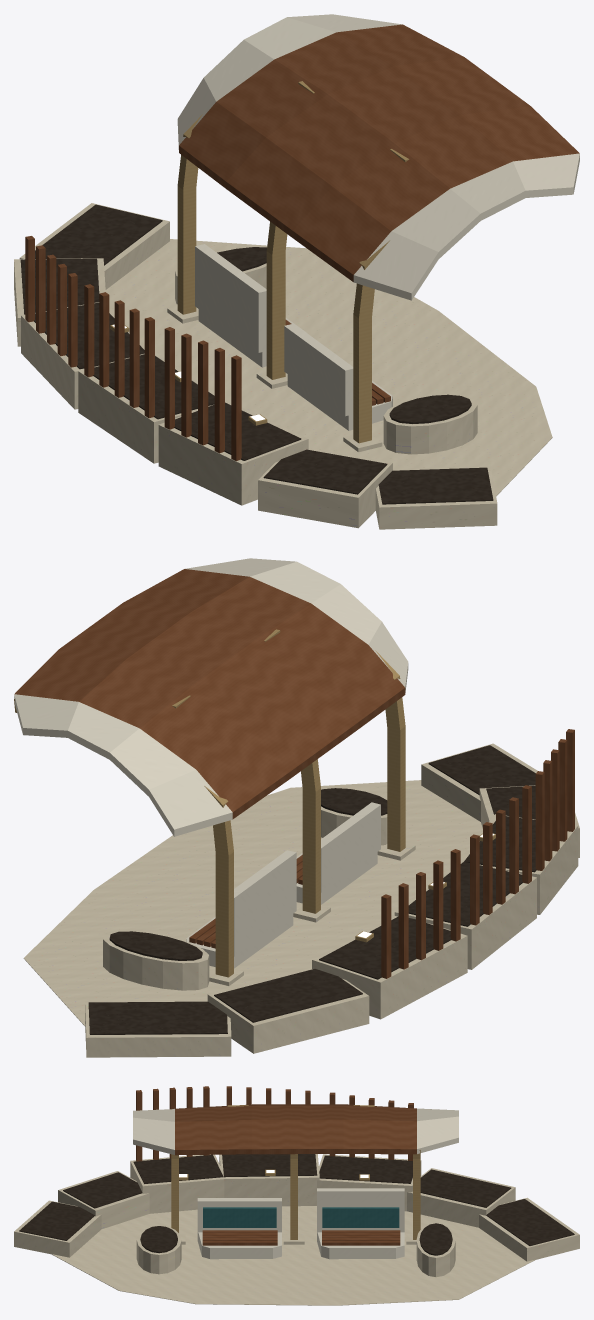
The model's file is AST-GAR-003.glb.
The picture shows the model from 3 angles, top to bottom: view 1: azimuth 30°, elevation 25°; view 2: azimuth 150°, elevation 25°; view 3: azimuth 270°, elevation 25°; orthographic projection. The views are drawn at different scales.
Visible parts, largest first — view 1: OVL_Runtime_warm_walnut, OVL_Runtime_warm_stone, OVL_Runtime_ivory_enamel, OVL_Runtime_botanical_soil, OVL_Runtime_champagne_metal; view 2: OVL_Runtime_warm_walnut, OVL_Runtime_warm_stone, OVL_Runtime_ivory_enamel, OVL_Runtime_botanical_soil, OVL_Runtime_champagne_metal; view 3: OVL_Runtime_warm_stone, OVL_Runtime_warm_walnut, OVL_Runtime_botanical_soil, OVL_Runtime_ivory_enamel, OVL_Runtime_teal_weave, OVL_Runtime_champagne_metal.
Part boxes in pixels (bbox=[...]): OVL_Runtime_warm_walnut: bbox=[25, 24, 579, 461]; OVL_Runtime_warm_stone: bbox=[14, 203, 552, 529]; OVL_Runtime_ivory_enamel: bbox=[177, 14, 579, 430]; OVL_Runtime_botanical_soil: bbox=[20, 204, 493, 504]; OVL_Runtime_champagne_metal: bbox=[110, 81, 409, 443]; OVL_Runtime_warm_walnut: bbox=[14, 569, 574, 978]; OVL_Runtime_warm_stone: bbox=[23, 743, 579, 1057]; OVL_Runtime_ivory_enamel: bbox=[14, 558, 408, 968]; OVL_Runtime_botanical_soil: bbox=[88, 745, 536, 1034]; OVL_Runtime_champagne_metal: bbox=[14, 629, 495, 977]; OVL_Runtime_warm_stone: bbox=[14, 1154, 579, 1305]; OVL_Runtime_warm_walnut: bbox=[136, 1086, 416, 1245]; OVL_Runtime_botanical_soil: bbox=[19, 1154, 574, 1255]; OVL_Runtime_ivory_enamel: bbox=[133, 1108, 458, 1259]; OVL_Runtime_teal_weave: bbox=[203, 1207, 399, 1227]; OVL_Runtime_champagne_metal: bbox=[171, 1105, 420, 1239].
Size of the model in its own units: 9.18 by 5.45 by 16.15.
Materials: 7 (6 with a texture image).
